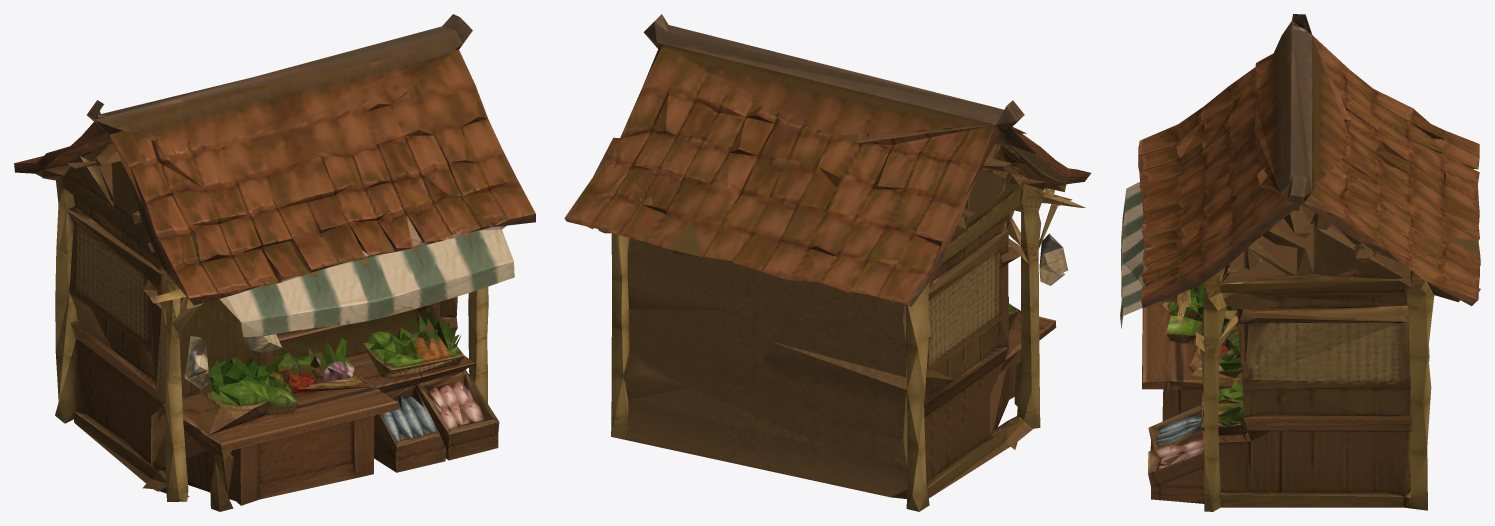
File: Warung.glb
3 views of the same model, side by side, from view 1: azimuth 30°, elevation 25°; view 2: azimuth 150°, elevation 25°; view 3: azimuth 270°, elevation 25° (orthographic). The views are drawn at different scales.
Visible parts, largest first — view 1: Mesh_0; view 2: Mesh_0; view 3: Mesh_0.
Boxes of the visible parts, x1=… form: Mesh_0: x1=14, y1=14, x2=535, y2=511; Mesh_0: x1=564, y1=14, x2=1091, y2=511; Mesh_0: x1=1120, y1=14, x2=1480, y2=511.
Bounding box in the file's own units: 1.89 × 1.76 × 1.65.
1 material, 1 textured.
